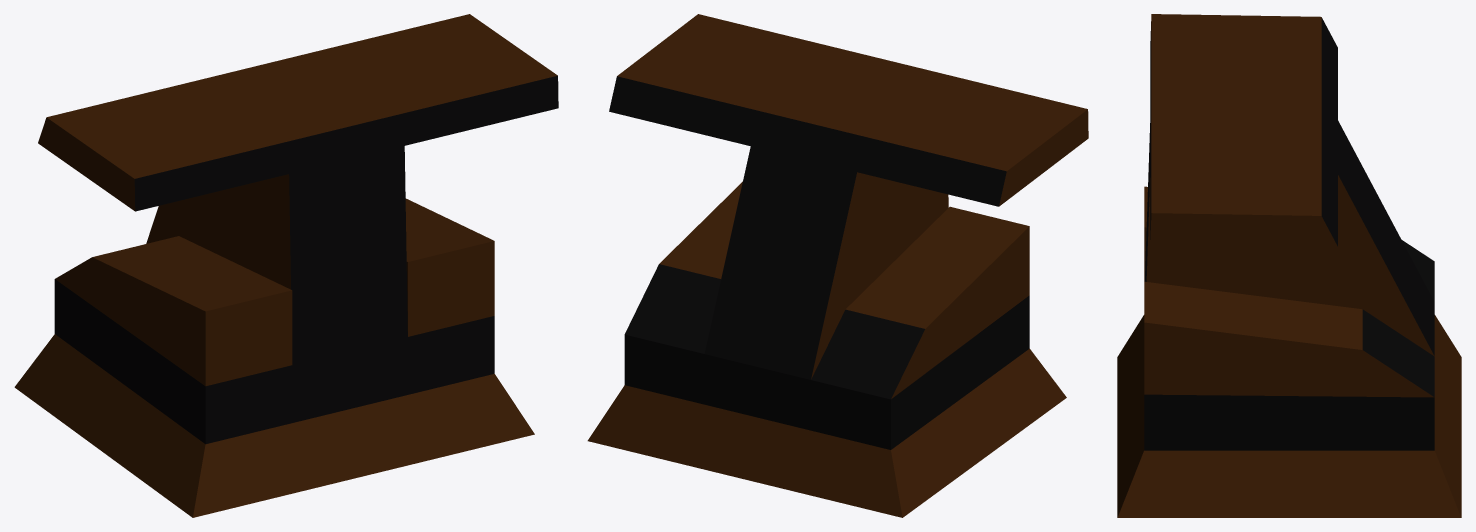
The model's file is turret_body.obj.
The picture shows the model from 3 angles, left to right: view 1: azimuth 30°, elevation 25°; view 2: azimuth 150°, elevation 25°; view 3: azimuth 270°, elevation 25°; orthographic projection. The views are drawn at different scales.
Parts seen in each view (by area): view 1: Cube_Cube.001; view 2: Cube_Cube.001; view 3: Cube_Cube.001.
Part boxes in pixels (x1,y1,x2,y2): Cube_Cube.001: [14, 14, 558, 517]; Cube_Cube.001: [587, 14, 1088, 517]; Cube_Cube.001: [1117, 14, 1461, 517].
Bounding box in the file's own units: 0.4717 × 0.3578 × 0.3444.
